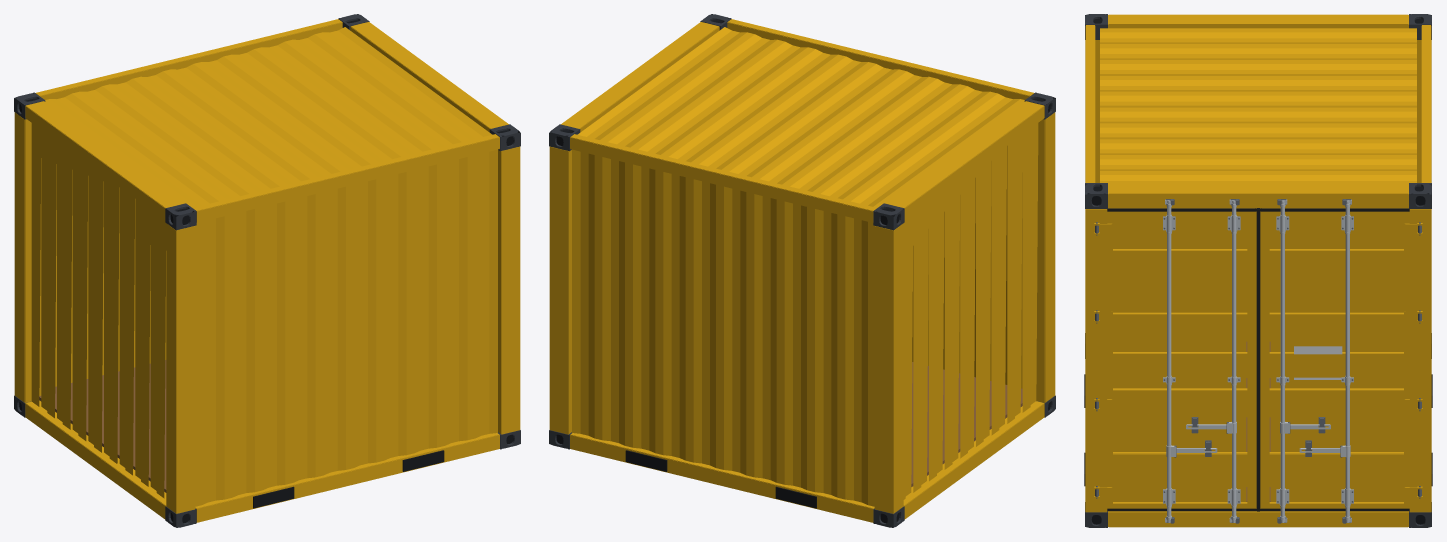
File: iso_10ft_dc_12g1.obj
3 renders of one model, left to right at view 1: azimuth 30°, elevation 25°; view 2: azimuth 150°, elevation 25°; view 3: azimuth 270°, elevation 25°, orthographic. The views are drawn at different scales.
Visible parts, largest first — view 1: 04_Corrugated_Corten_Panels, 02_Structural_Frame_Rails, 01_ISO_Corner_Castings_Hollow3D, 03_Marine_Wood_Floor, 01_ISO_Corner_Castings_Hollow3D_Cavity; view 2: 04_Corrugated_Corten_Panels, 02_Structural_Frame_Rails, 01_ISO_Corner_Castings_Hollow3D, 01_ISO_Corner_Castings_Hollow3D_Cavity, 03_Marine_Wood_Floor; view 3: 06_Corrugated_Rear_Doors, 04_Corrugated_Corten_Panels, 02_Structural_Frame_Rails, 07_Galvanized_Locking_Hardware, 05_Door_Rubber_Gaskets_Beveled, 01_ISO_Corner_Castings_Hollow3D, 01_ISO_Corner_Castings_Hollow3D_Cavity, 08_CSC_Safety_Data_Plate.
Boxes of the visible parts, bbox=[...] form: 04_Corrugated_Corten_Panels: bbox=[31, 27, 497, 506]; 02_Structural_Frame_Rails: bbox=[14, 19, 520, 522]; 01_ISO_Corner_Castings_Hollow3D: bbox=[14, 14, 520, 527]; 03_Marine_Wood_Floor: bbox=[39, 360, 166, 492]; 01_ISO_Corner_Castings_Hollow3D_Cavity: bbox=[19, 20, 513, 523]; 04_Corrugated_Corten_Panels: bbox=[572, 27, 1038, 506]; 02_Structural_Frame_Rails: bbox=[549, 19, 1055, 522]; 01_ISO_Corner_Castings_Hollow3D: bbox=[549, 14, 1055, 527]; 01_ISO_Corner_Castings_Hollow3D_Cavity: bbox=[556, 20, 1050, 523]; 03_Marine_Wood_Floor: bbox=[911, 362, 1022, 486]; 06_Corrugated_Rear_Doors: bbox=[1094, 208, 1422, 508]; 04_Corrugated_Corten_Panels: bbox=[1100, 28, 1416, 312]; 02_Structural_Frame_Rails: bbox=[1085, 14, 1431, 527]; 07_Galvanized_Locking_Hardware: bbox=[1095, 199, 1421, 523]; 05_Door_Rubber_Gaskets_Beveled: bbox=[1107, 208, 1409, 511]; 01_ISO_Corner_Castings_Hollow3D: bbox=[1085, 14, 1431, 527]; 01_ISO_Corner_Castings_Hollow3D_Cavity: bbox=[1084, 19, 1432, 524]; 08_CSC_Safety_Data_Plate: bbox=[1294, 346, 1342, 379].
Size of the model in its own units: 3.01 by 2.59 by 2.45.
